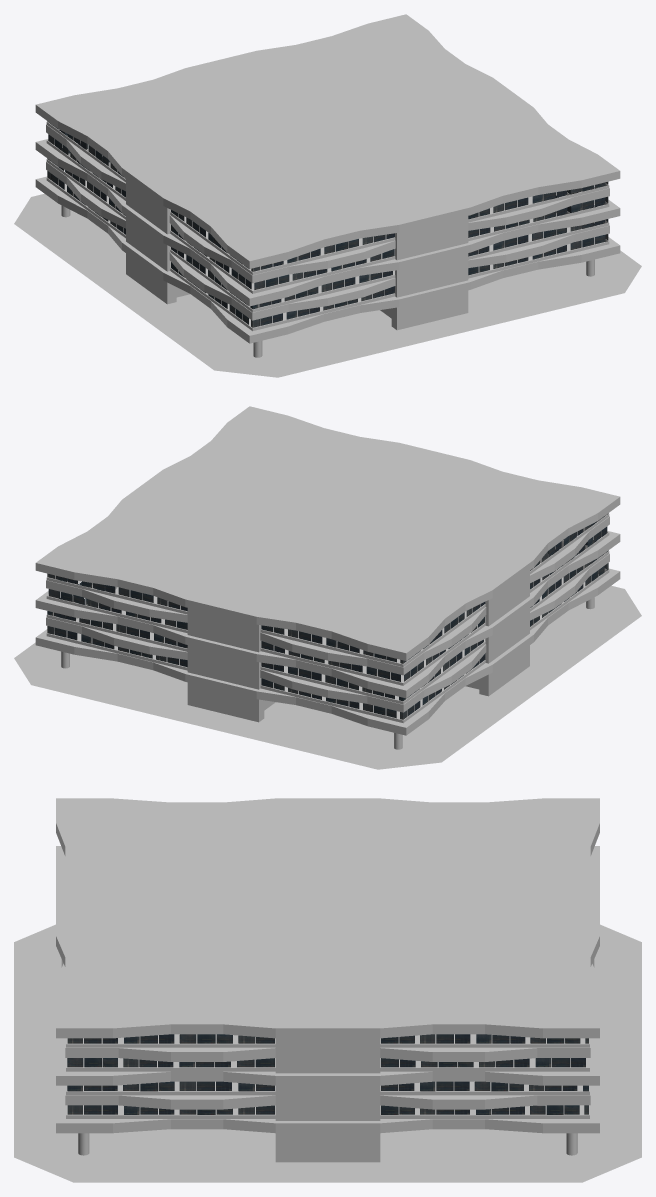
3 renders of one model, top to bottom at view 1: azimuth 30°, elevation 25°; view 2: azimuth 150°, elevation 25°; view 3: azimuth 270°, elevation 25°, orthographic. The views are drawn at different scales.
Visible parts, largest first — view 1: QD-09; view 2: QD-09; view 3: QD-09.
Part boxes in pixels (left/top/right/bottom): QD-09: left=14, top=14, right=641, bottom=377; QD-09: left=14, top=406, right=641, bottom=769; QD-09: left=14, top=798, right=641, bottom=1182.
Size of what is drawn, in the model's own units: 72 by 17.26 by 72.
